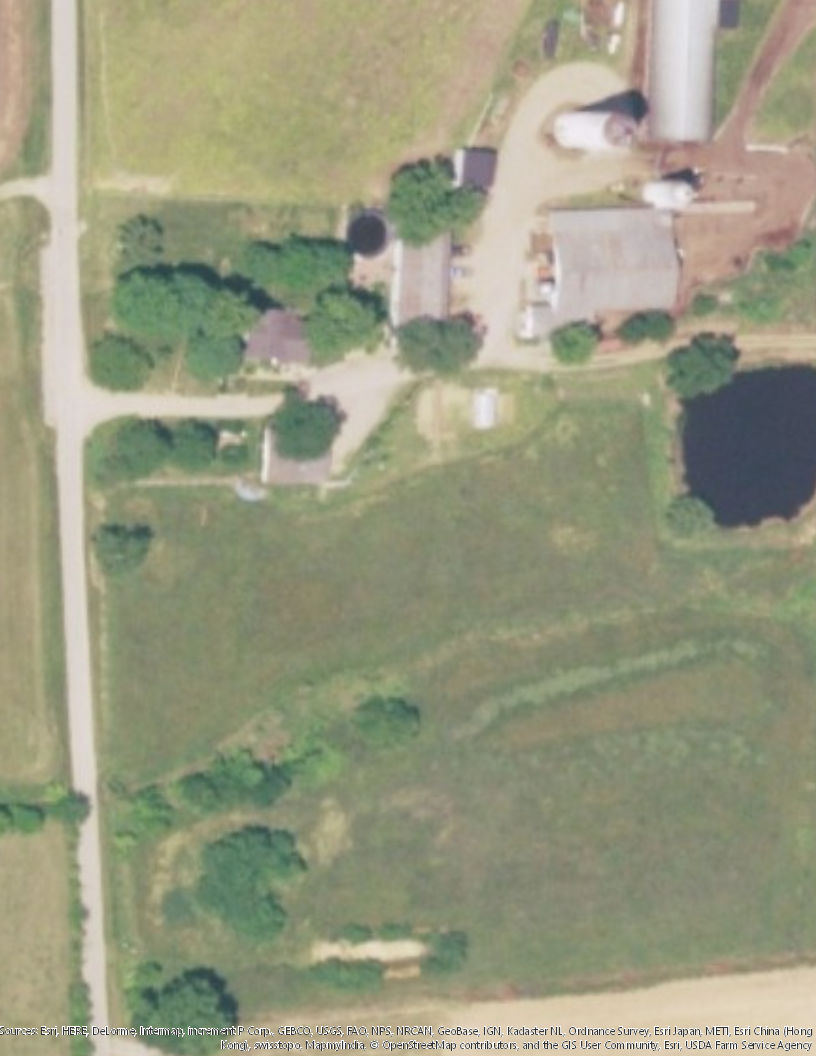cafo: (541, 205, 690, 314), (639, 1, 728, 149)
